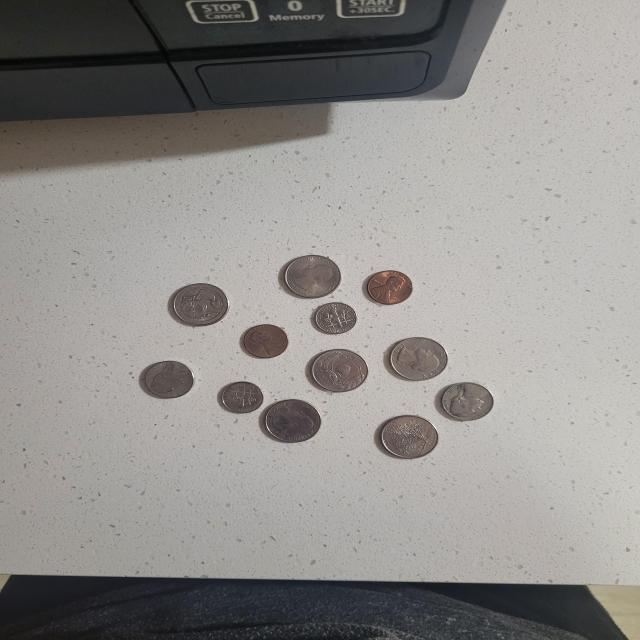Dime: (214, 378, 269, 416), (307, 299, 362, 335)
Nickel: (134, 353, 199, 402), (434, 377, 497, 426)
Penny: (234, 318, 293, 363), (358, 266, 418, 308)
Quarter: (158, 277, 240, 335), (275, 244, 343, 299), (304, 344, 372, 399), (374, 411, 446, 462), (260, 398, 326, 446), (386, 335, 450, 380)
